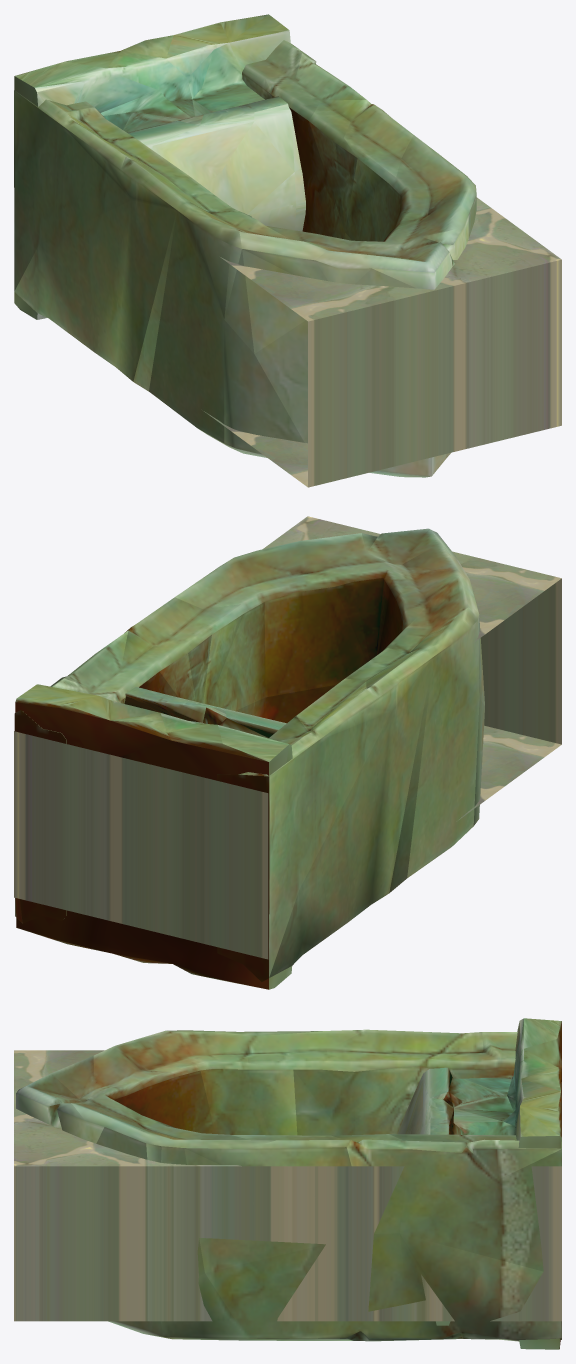
File: Ruins_Wall_Arch_8Mx4M_A.fbx
The picture shows the model from 3 angles, top to bottom: view 1: azimuth 30°, elevation 25°; view 2: azimuth 150°, elevation 25°; view 3: azimuth 270°, elevation 25°; orthographic projection. The views are drawn at different scales.
Visible parts, largest first — view 1: Ruins_Wall_Arch_8Mx4M_A; view 2: Ruins_Wall_Arch_8Mx4M_A; view 3: Ruins_Wall_Arch_8Mx4M_A.
Boxes of the visible parts, x1,y1,x2,y2 form: Ruins_Wall_Arch_8Mx4M_A: (14, 14, 561, 487); Ruins_Wall_Arch_8Mx4M_A: (14, 516, 561, 989); Ruins_Wall_Arch_8Mx4M_A: (14, 1018, 561, 1349).
Size of the model in its own units: 410 by 361 by 800.
